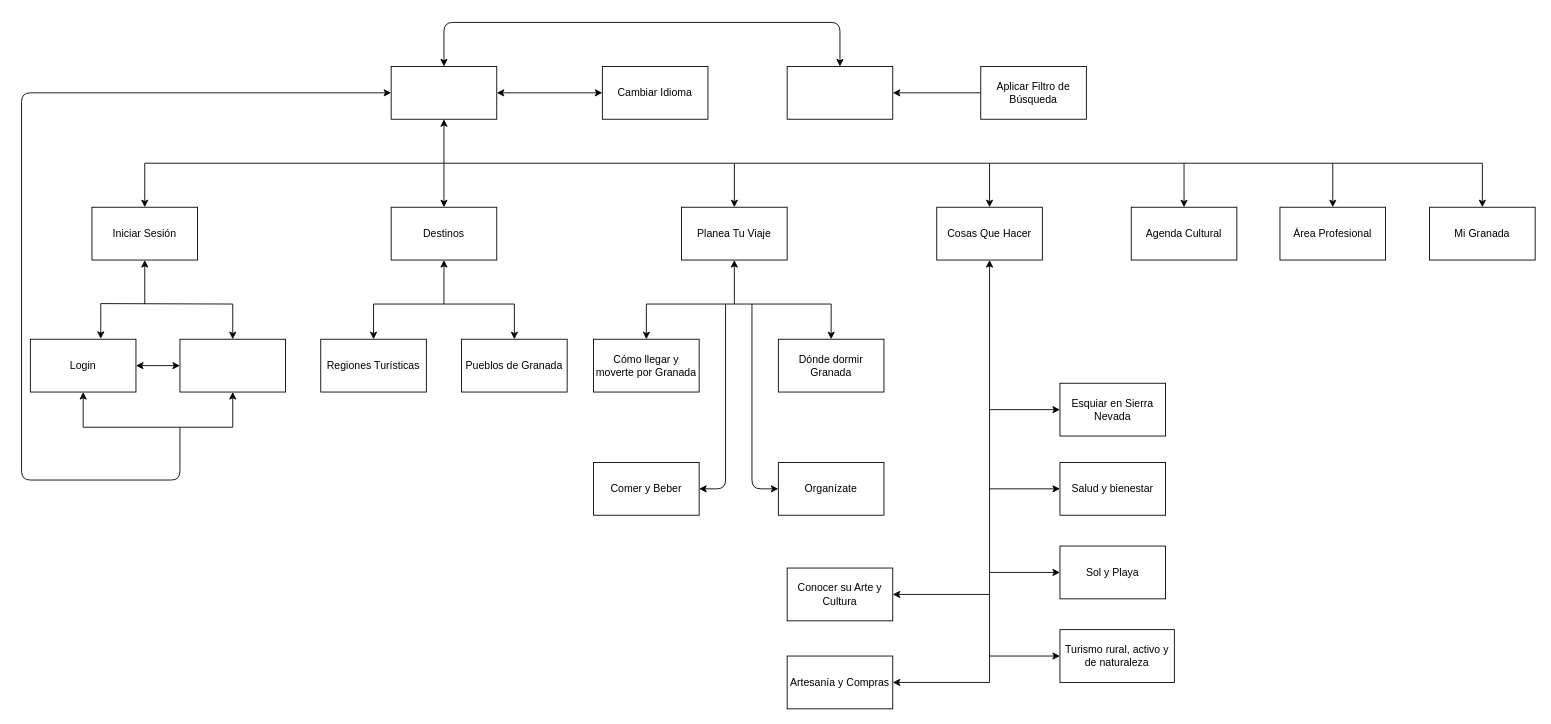
This 1551x724 diagram has some shape labels left out. Here are the shapes that lost their labels. From the top down, the centre of each, then its label:
At (x=443, y=92): "Página de Inicio".
At (x=839, y=92): "Buscar".
At (x=232, y=365): "Registrarse".
